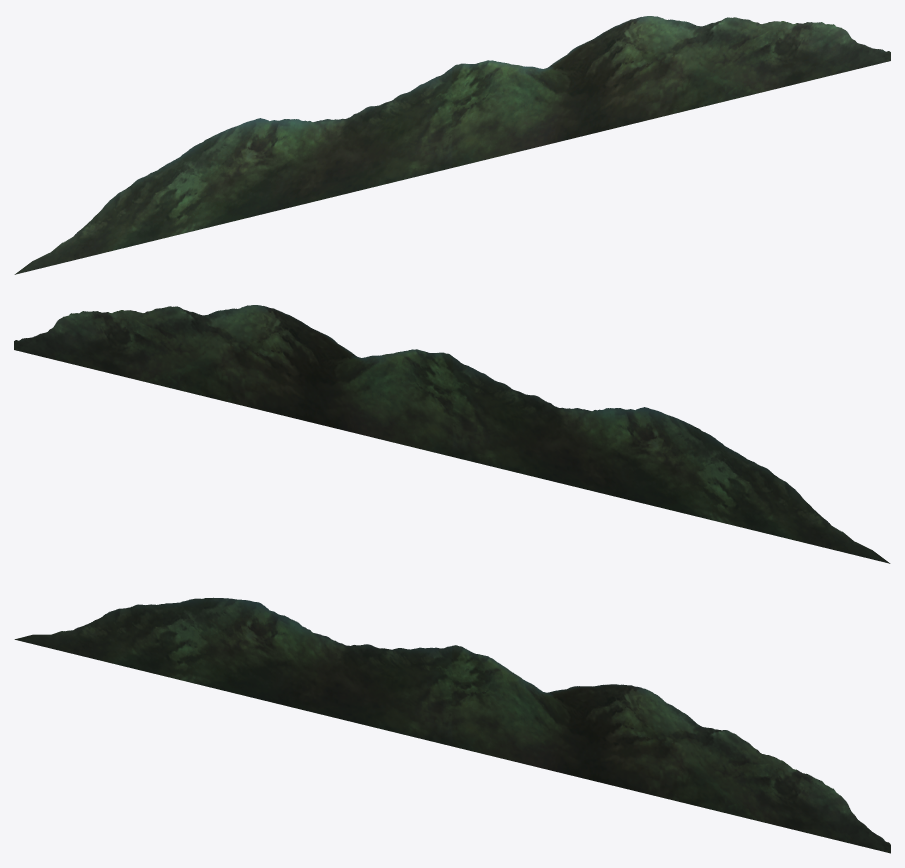
Rendered from FarHill1.fbx.
3 views of the same model, one above another, from view 1: azimuth 30°, elevation 25°; view 2: azimuth 150°, elevation 25°; view 3: azimuth 330°, elevation 25° (orthographic).
Parts seen in each view (by area): view 1: SM_cmn_mount_far_hill_01a; view 2: SM_cmn_mount_far_hill_01a; view 3: SM_cmn_mount_far_hill_01a.
Boxes of the visible parts, x1,y1,x2,y2 form: SM_cmn_mount_far_hill_01a: (14, 16, 890, 274); SM_cmn_mount_far_hill_01a: (14, 305, 890, 563); SM_cmn_mount_far_hill_01a: (14, 597, 890, 853).
Size of the model in its own units: 36000 by 4227 by 2.11e-20.
